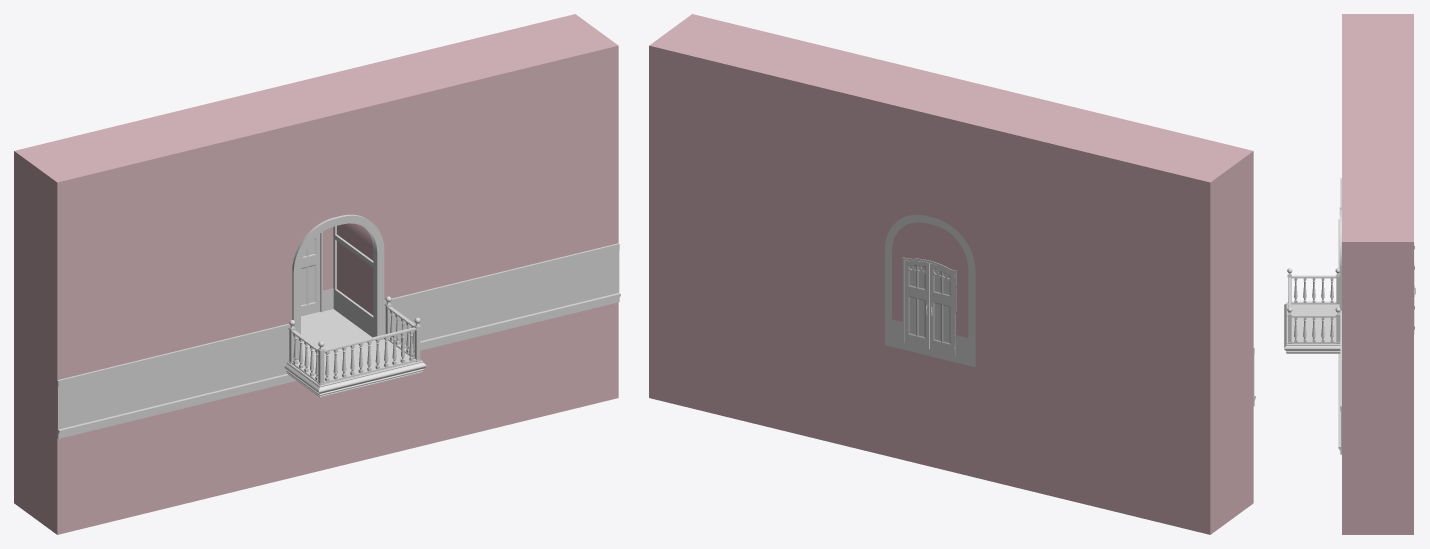
File: 860_balcony.glb
3 renders of one model, left to right at view 1: azimuth 30°, elevation 25°; view 2: azimuth 150°, elevation 25°; view 3: azimuth 270°, elevation 25°, orthographic. The views are drawn at different scales.
Parts seen in each view (by area): view 1: balcony, ドア右; view 2: balcony, ドア右, ドア左; view 3: balcony.
Part boxes in pixels (x1,y1,x2,y2): balcony: [14, 14, 620, 534]; ドア右: [301, 234, 320, 316]; balcony: [649, 14, 1255, 534]; ドア右: [904, 260, 929, 348]; ドア左: [930, 263, 954, 354]; balcony: [1284, 14, 1414, 534].
Size of the model in its own units: 15 by 9 by 3.66.
